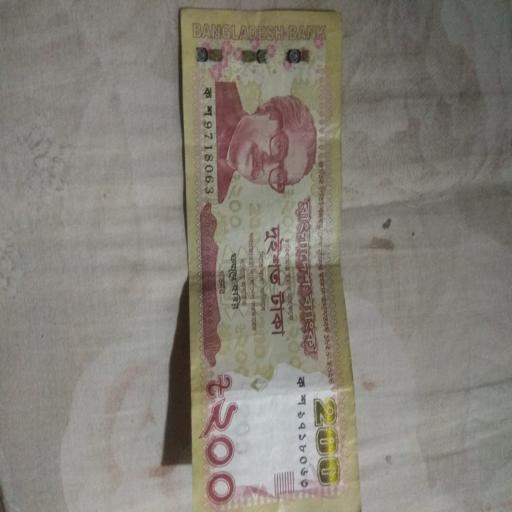200taka: (181, 9, 361, 512)
